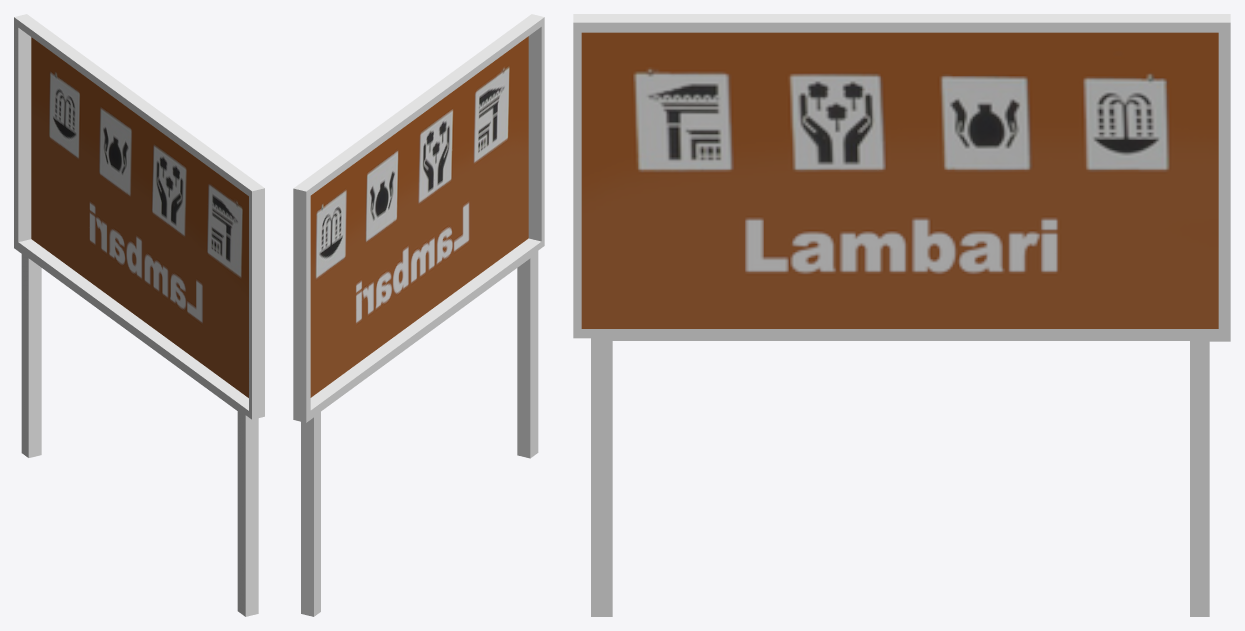
The model's file is placa_da_entrada_lambari_mg.glb.
3 views of the same model, side by side, from view 1: azimuth 30°, elevation 25°; view 2: azimuth 150°, elevation 25°; view 3: azimuth 270°, elevation 25° (orthographic). The views are drawn at different scales.
Parts seen in each view (by area): view 1: Object_3, Object_2; view 2: Object_3, Object_2; view 3: Object_3, Object_2.
Boxes of the visible parts, x1,y1,x2,y2 form: Object_3: [31, 37, 248, 397]; Object_2: [14, 14, 264, 616]; Object_3: [310, 36, 528, 397]; Object_2: [293, 14, 544, 616]; Object_3: [581, 32, 1218, 328]; Object_2: [573, 14, 1230, 616].
Bounding box in the file's own units: 12 × 383 × 384.
2 materials, 1 textured.
